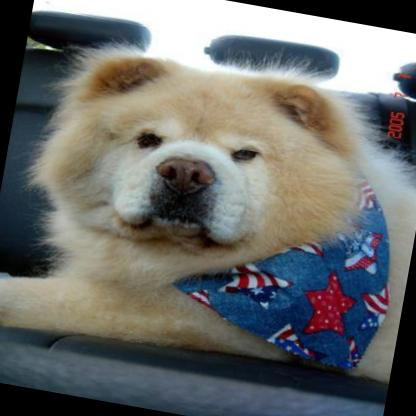chow: (0, 26, 416, 392)
